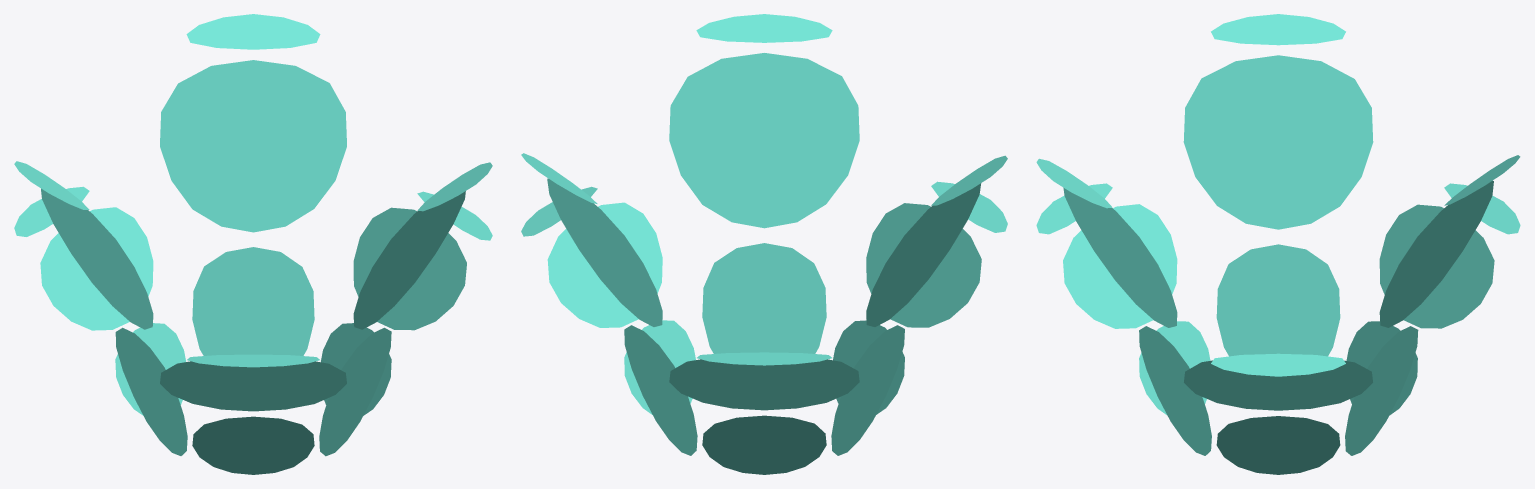
File: plant_bushLarge.glb
3 renders of one model, left to right at view 1: azimuth 30°, elevation 25°; view 2: azimuth 150°, elevation 25°; view 3: azimuth 270°, elevation 25°, orthographic.
Parts seen in each view (by area): view 1: plant_bushLarge; view 2: plant_bushLarge; view 3: plant_bushLarge.
Boxes of the visible parts, x1,y1,x2,y2 form: plant_bushLarge: (14,14,492,474); plant_bushLarge: (521,14,1007,474); plant_bushLarge: (1036,14,1520,474).
Bounding box in the file's own units: 0.3469 × 0.2329 × 0.3232.
